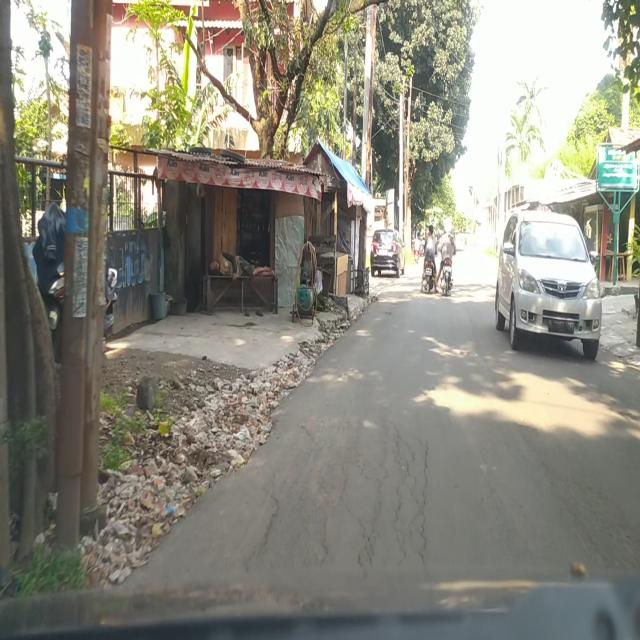Drain Hole: (245, 442, 430, 567)
